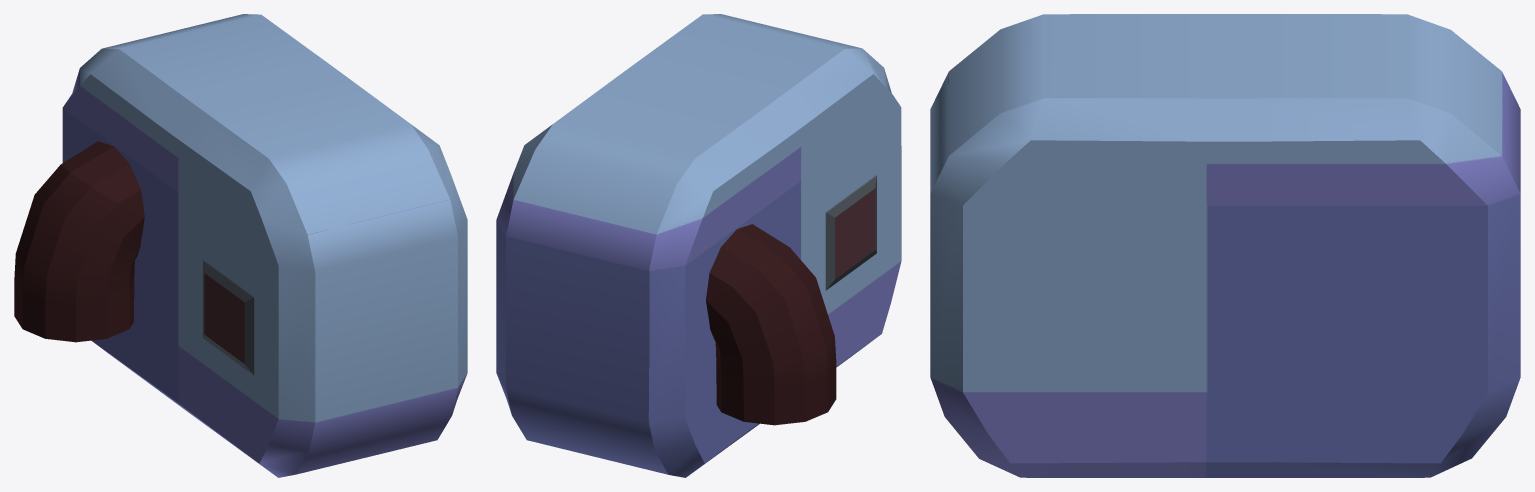
File: electric hand dryer.fbx
3 views of the same model, side by side, from view 1: azimuth 30°, elevation 25°; view 2: azimuth 150°, elevation 25°; view 3: azimuth 270°, elevation 25° (orthographic). The views are drawn at different scales.
Parts seen in each view (by area): view 1: Electric_hand_dryer; view 2: Electric_hand_dryer; view 3: Electric_hand_dryer.
Part boxes in pixels (x1=…): Electric_hand_dryer: x1=14, y1=14, x2=467, y2=477; Electric_hand_dryer: x1=496, y1=14, x2=901, y2=477; Electric_hand_dryer: x1=930, y1=14, x2=1520, y2=477.
Bounding box in the file's own units: 0.1265 × 0.1347 × 0.1899.
Materials: 1 (1 with a texture image).
